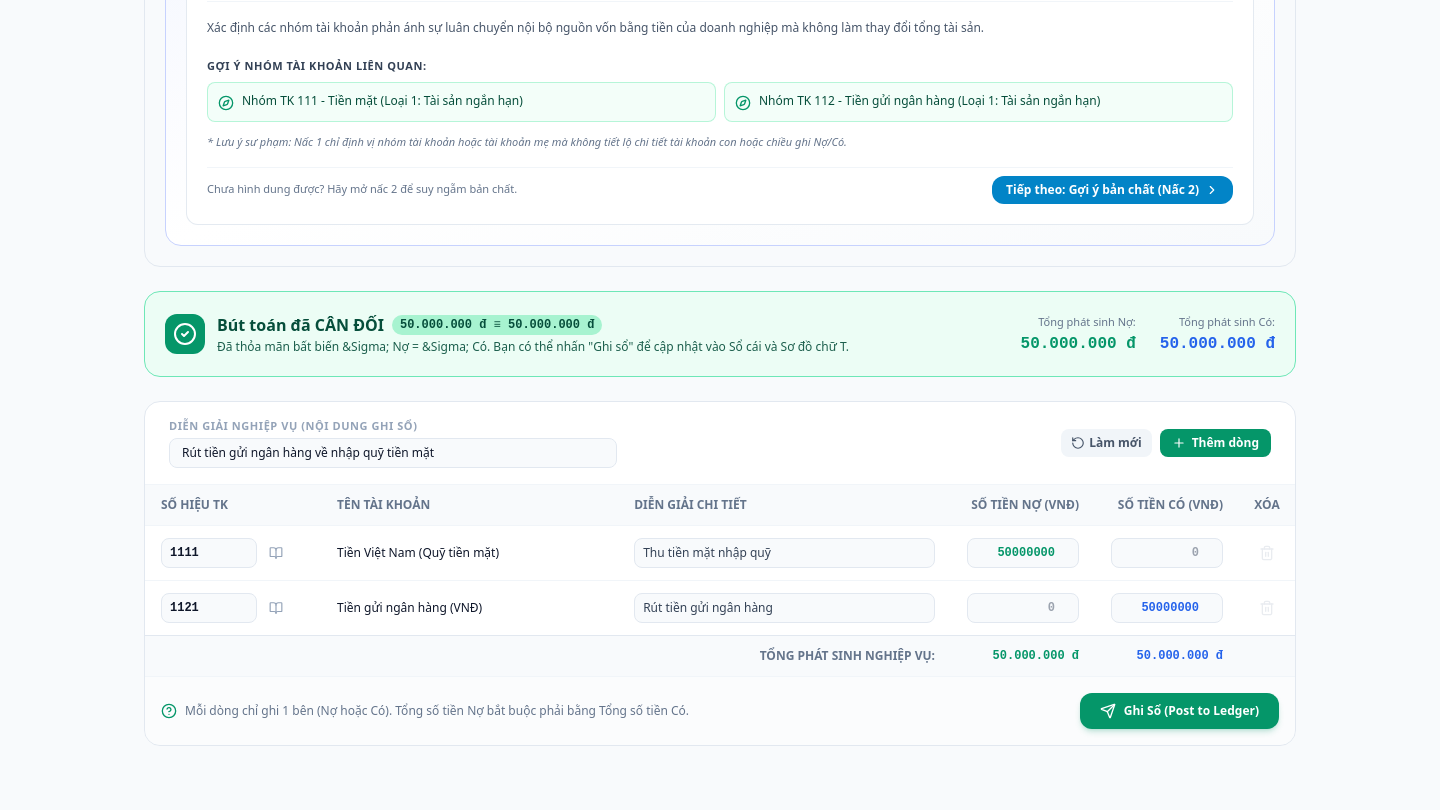
Test case: INTERACTIVE JOURNALIZER WORKBENCH UNIT TESTS › 2. Dynamic Multi-Row Operations › should remove a row when trash button is clicked, but stop at minimum 2 rows
(page scrolled)
Click the button "Thêm dòng".
click(1215, 443)  # box x1=1160 y1=429 x2=1271 y2=457
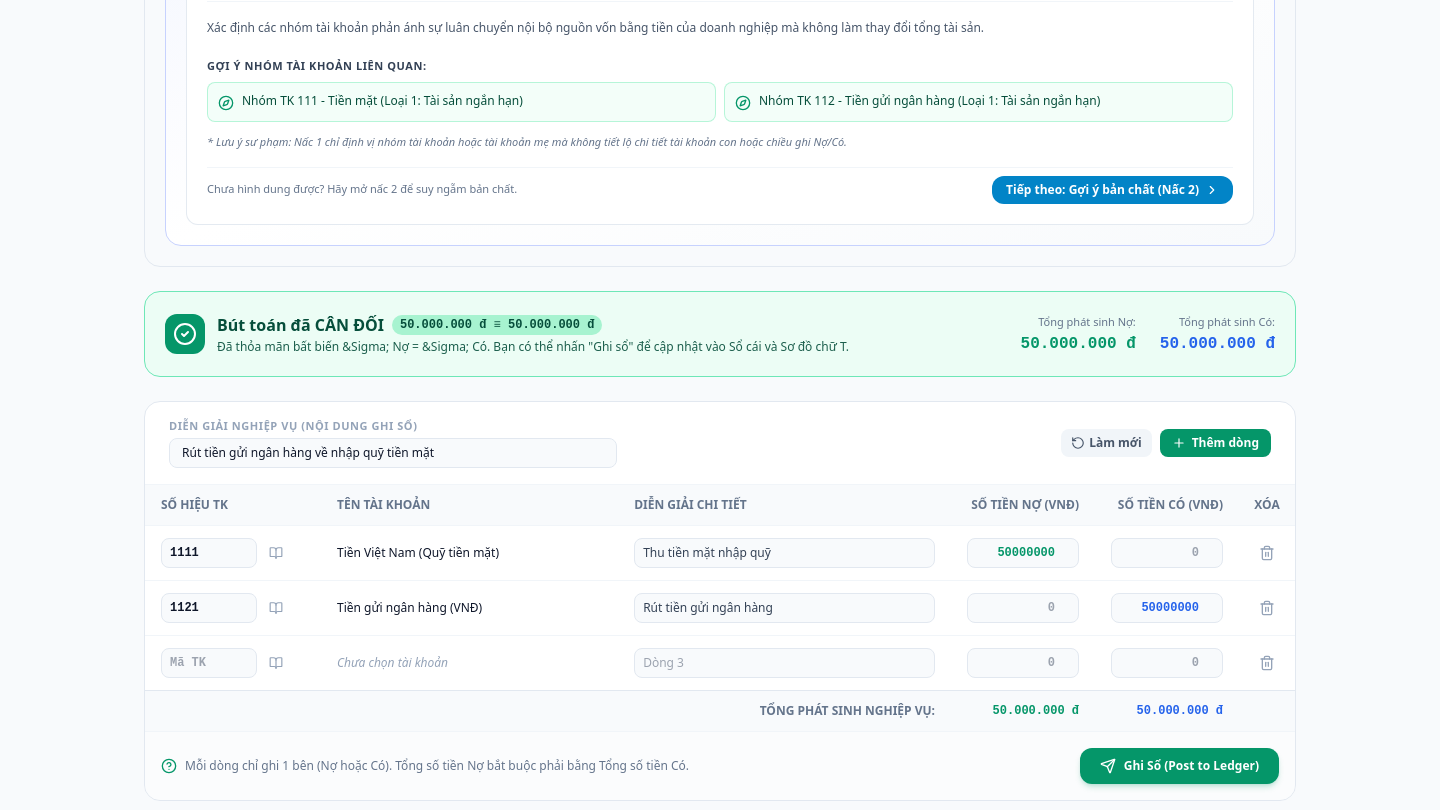
Expected: the number of buttons titled "Xóa dòng định khoản" is 3
Expected: the button titled "Xóa dòng định khoản" in the row of "Tiền Việt Nam (Quỹ tiền mặt)" is enabled, x1=1253 y1=539 x2=1281 y2=567
Note: Click delete on third row
Click the button titled "Xóa dòng định khoản" in the row of "Chưa chọn tài khoản".
click(1267, 663)  # box x1=1253 y1=649 x2=1281 y2=677
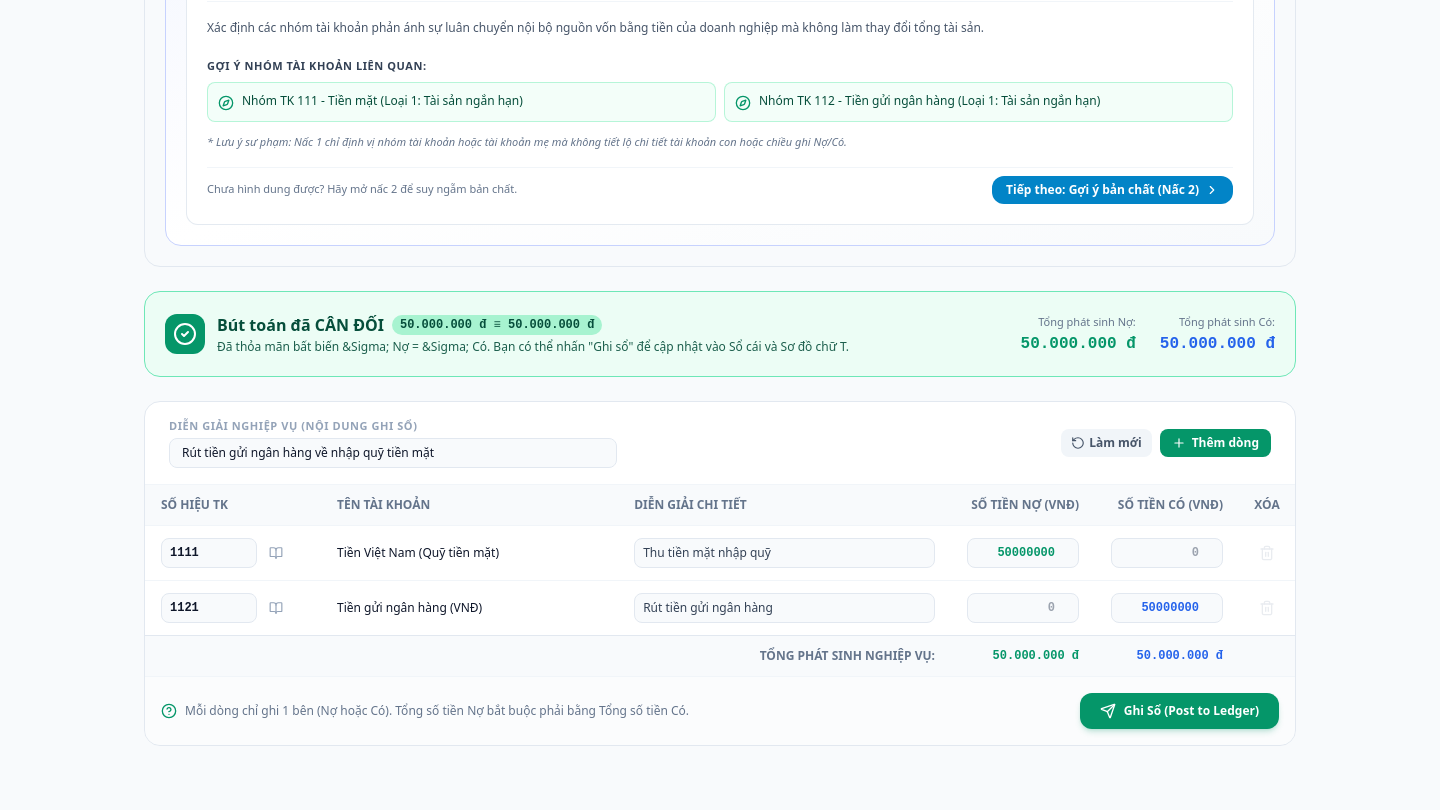
Expected: the number of fields with placeholder "Mã TK" is 2, x1=161 y1=538 x2=257 y2=568; x1=161 y1=593 x2=257 y2=623
